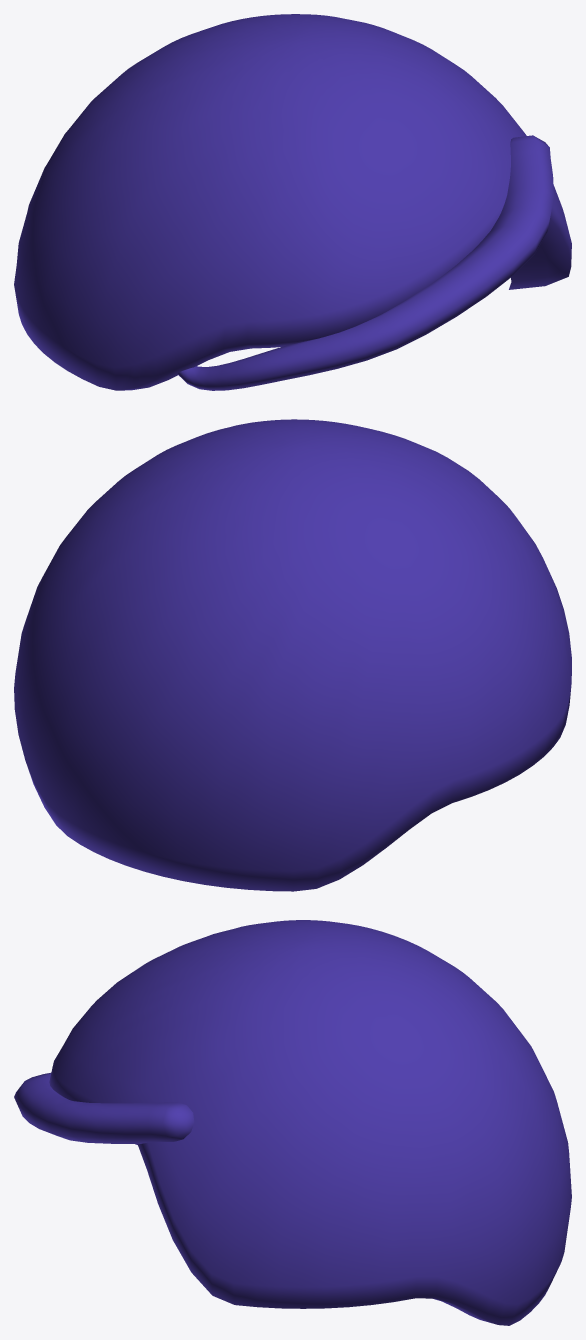
The model's file is hair-sideswept.glb.
3 renders of one model, top to bottom at view 1: azimuth 30°, elevation 25°; view 2: azimuth 150°, elevation 25°; view 3: azimuth 270°, elevation 25°, orthographic. The views are drawn at different scales.
Visible parts, largest first — view 1: hair-sideswept-mesh; view 2: hair-sideswept-mesh; view 3: hair-sideswept-mesh.
Part boxes in pixels (x1,y1,x2,y2): hair-sideswept-mesh: (14,14,571,390); hair-sideswept-mesh: (14,419,571,891); hair-sideswept-mesh: (14,920,571,1325).
Bounding box in the file's own units: 2.18 × 1.44 × 2.26.
